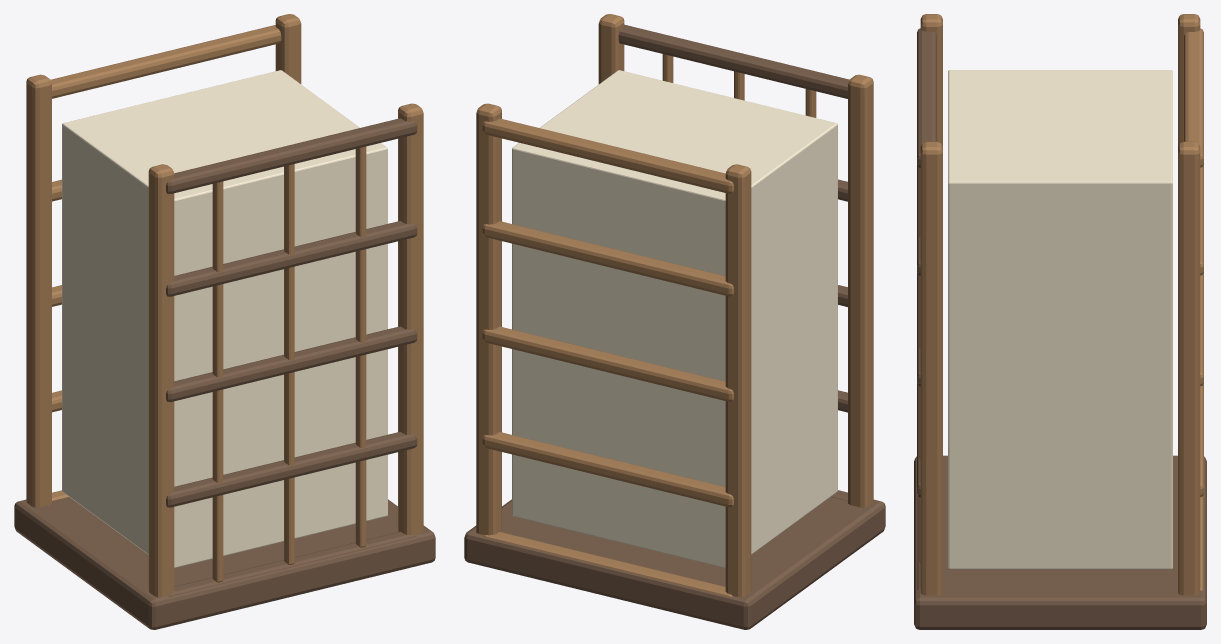
Rendered from home_andon.glb.
3 renders of one model, left to right at view 1: azimuth 30°, elevation 25°; view 2: azimuth 150°, elevation 25°; view 3: azimuth 270°, elevation 25°, orthographic. The views are drawn at different scales.
Visible parts, largest first — view 1: Andon glowing washi, Andon broad foot, Fine timber corner stile.001, Fine timber corner stile, Fine timber corner stile.002, Traditional paper frame horizontal.004, Traditional paper frame horizontal.002, Traditional paper frame horizontal.001, Traditional paper frame horizontal.003, Rear wooden horizontal.004, Vertical lattice, Vertical lattice.002 (+3 smaller); view 2: Andon glowing washi, Andon broad foot, Fine timber corner stile, Fine timber corner stile.001, Fine timber corner stile.003, Rear wooden horizontal.004, Rear wooden horizontal.001, Rear wooden horizontal.003, Rear wooden horizontal.002, Traditional paper frame horizontal.004, Rear wooden horizontal, Fine timber corner stile.002; view 3: Andon glowing washi, Andon broad foot, Fine timber corner stile.002, Fine timber corner stile.003, Traditional paper frame horizontal.004, Rear wooden horizontal.004, Fine timber corner stile.001, Fine timber corner stile, Vertical lattice.002, Rear wooden horizontal.002, Rear wooden horizontal.001, Rear wooden horizontal.003.
Boxes of the visible parts, <box> form: Andon glowing washi: <box>62,70,387,568</box>; Andon broad foot: <box>14,497,435,629</box>; Fine timber corner stile.001: <box>26,74,51,507</box>; Fine timber corner stile: <box>148,164,174,597</box>; Fine timber corner stile.002: <box>398,103,423,534</box>; Traditional paper frame horizontal.004: <box>166,118,417,193</box>; Traditional paper frame horizontal.002: <box>166,326,417,402</box>; Traditional paper frame horizontal.001: <box>166,432,417,507</box>; Traditional paper frame horizontal.003: <box>166,221,417,296</box>; Rear wooden horizontal.004: <box>50,25,281,98</box>; Vertical lattice: <box>212,181,223,582</box>; Vertical lattice.002: <box>355,146,366,547</box>; Andon glowing washi: <box>512,70,837,568</box>; Andon broad foot: <box>464,497,885,629</box>; Fine timber corner stile: <box>848,74,873,507</box>; Fine timber corner stile.001: <box>725,164,751,597</box>; Fine timber corner stile.003: <box>476,103,501,535</box>; Rear wooden horizontal.004: <box>482,118,733,193</box>; Rear wooden horizontal.001: <box>482,432,733,507</box>; Rear wooden horizontal.003: <box>482,221,733,296</box>; Rear wooden horizontal.002: <box>482,326,733,401</box>; Traditional paper frame horizontal.004: <box>618,24,849,98</box>; Rear wooden horizontal: <box>483,532,732,596</box>; Fine timber corner stile.002: <box>598,14,624,83</box>; Andon glowing washi: <box>948,70,1172,569</box>; Andon broad foot: <box>914,455,1206,629</box>; Fine timber corner stile.002: <box>920,141,942,595</box>; Fine timber corner stile.003: <box>1178,141,1200,595</box>; Traditional paper frame horizontal.004: <box>917,28,936,167</box>; Rear wooden horizontal.004: <box>1184,28,1203,167</box>; Fine timber corner stile.001: <box>1178,14,1200,146</box>; Fine timber corner stile: <box>920,14,942,146</box>; Vertical lattice.002: <box>919,167,920,563</box>; Rear wooden horizontal.002: <box>1200,272,1203,386</box>; Rear wooden horizontal.001: <box>1200,383,1203,496</box>; Rear wooden horizontal.003: <box>1200,164,1203,275</box>.
Bounding box in the file's own units: 1.28 × 1.95 × 1.08.
